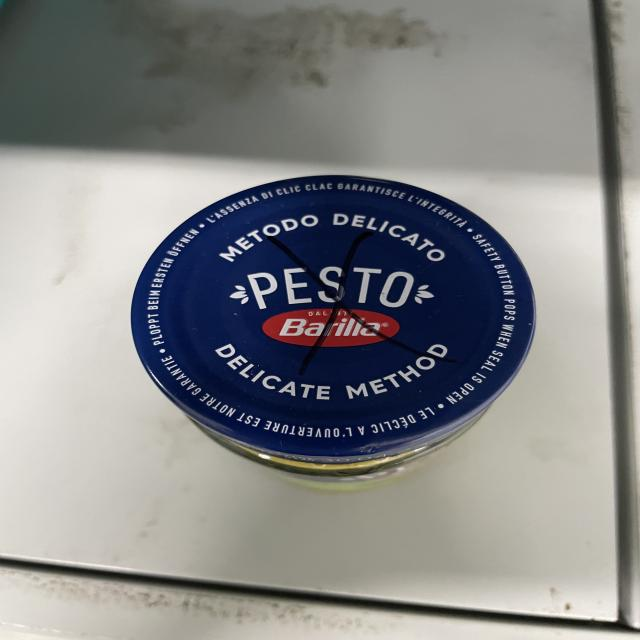object_name: (138, 181, 535, 483)
